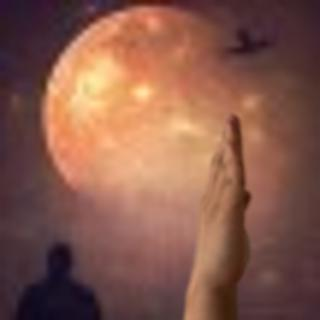RIGHT: (184, 107, 262, 297)
